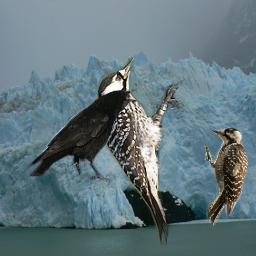Crow: (27, 87, 140, 184)
Woodpecker: (97, 57, 184, 246), (202, 125, 249, 229)
